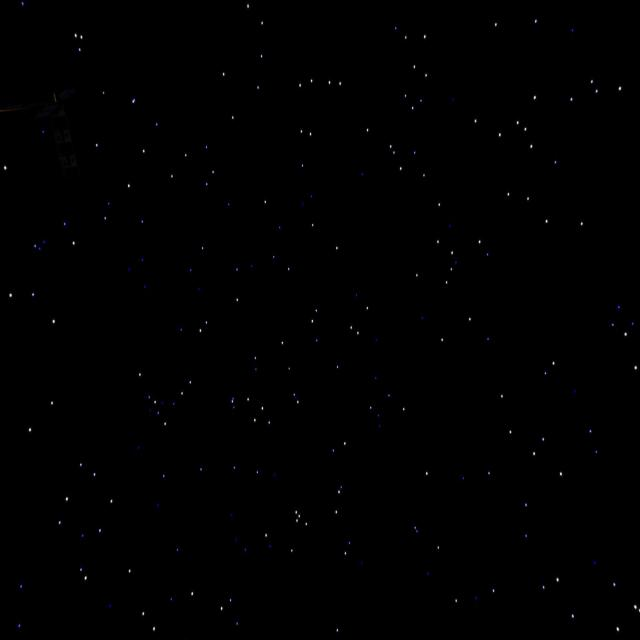medium_debris: (0, 75, 143, 185)
